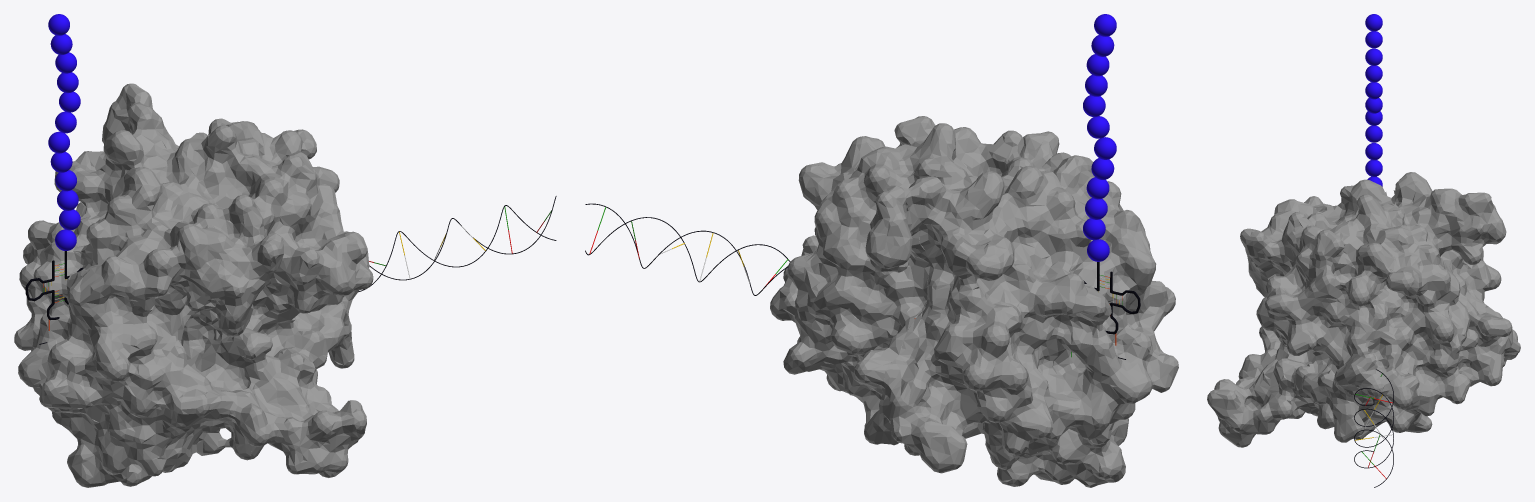
3 views of the same model, side by side, from view 1: azimuth 30°, elevation 25°; view 2: azimuth 150°, elevation 25°; view 3: azimuth 270°, elevation 25° (orthographic). The views are drawn at different scales.
Parts seen in each view (by area): view 1: VIFS002; view 2: VIFS002; view 3: VIFS002.
Part boxes in pixels (x1,y1,x2,y2): VIFS002: (14,83,373,487); VIFS002: (770,116,1178,487); VIFS002: (1207,172,1520,447).
Bounding box in the file's own units: 762 × 638 × 478.
